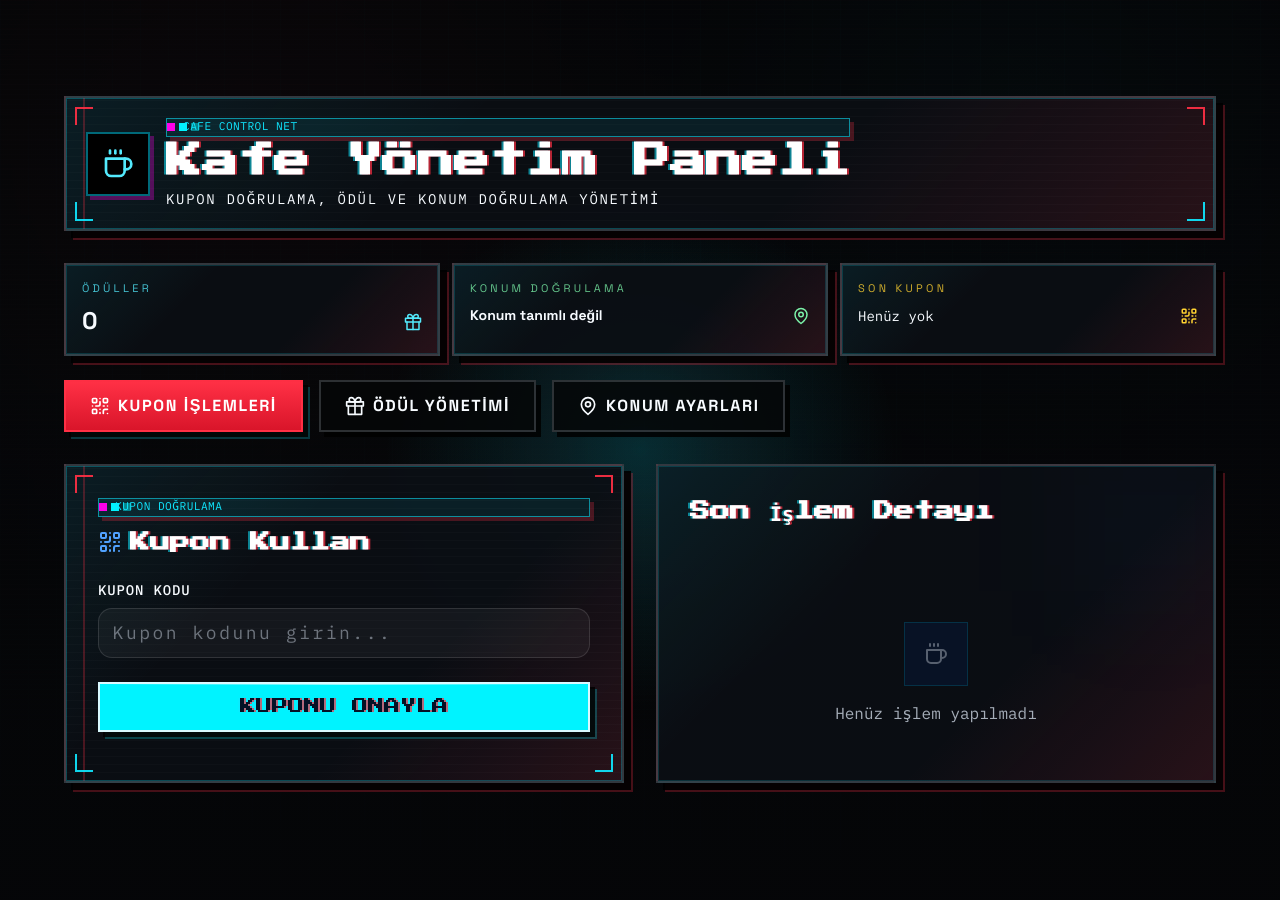
Scenario: CafeDashboard › verifies coupon successfully
Type "abc123" into the field with placeholder "Kupon kodunu girin...".
click(344, 633); type("abc123")  # box left=98, top=608, right=590, bottom=658
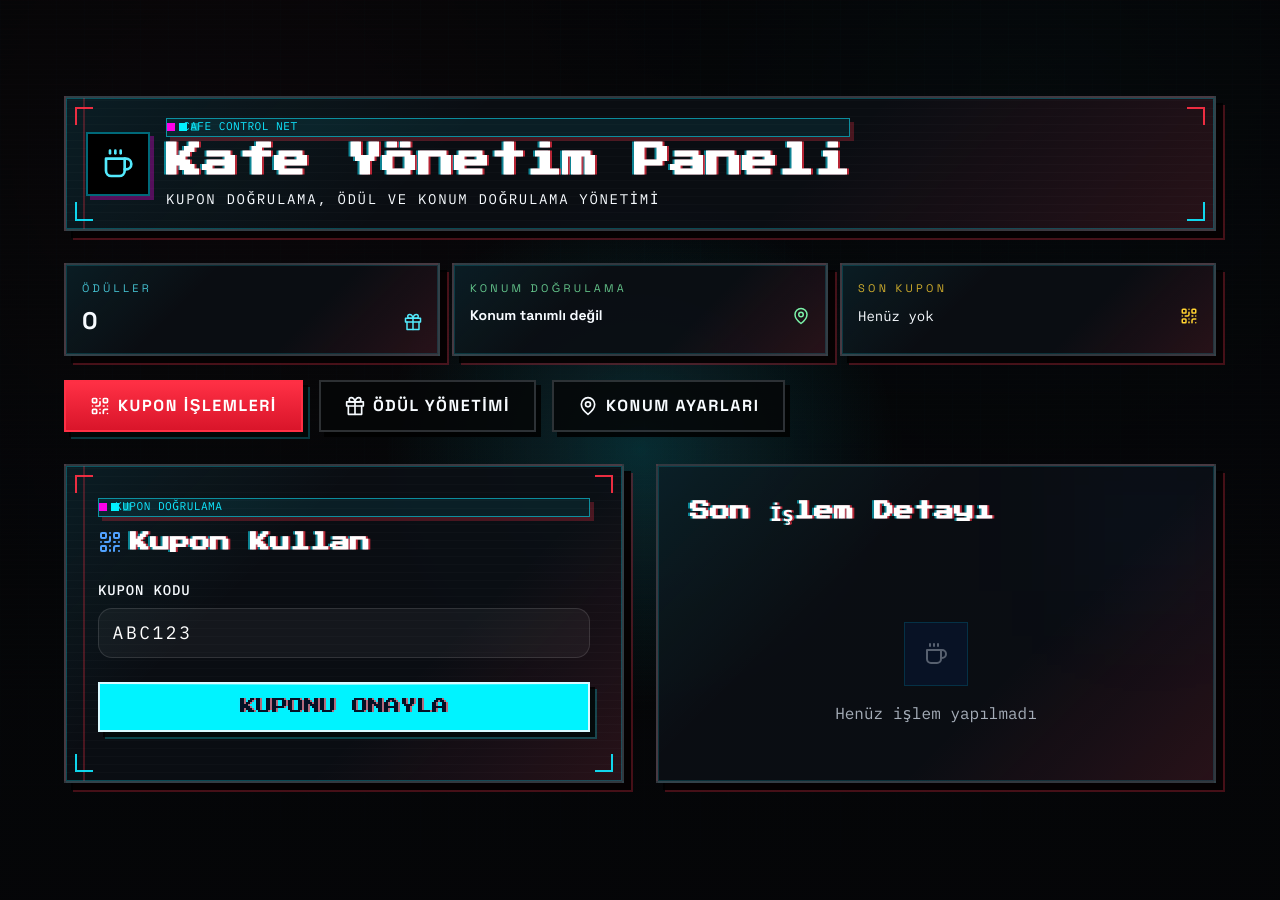
Click the button "KUPONU ONAYLA".
click(344, 707)  # box left=98, top=682, right=590, bottom=732
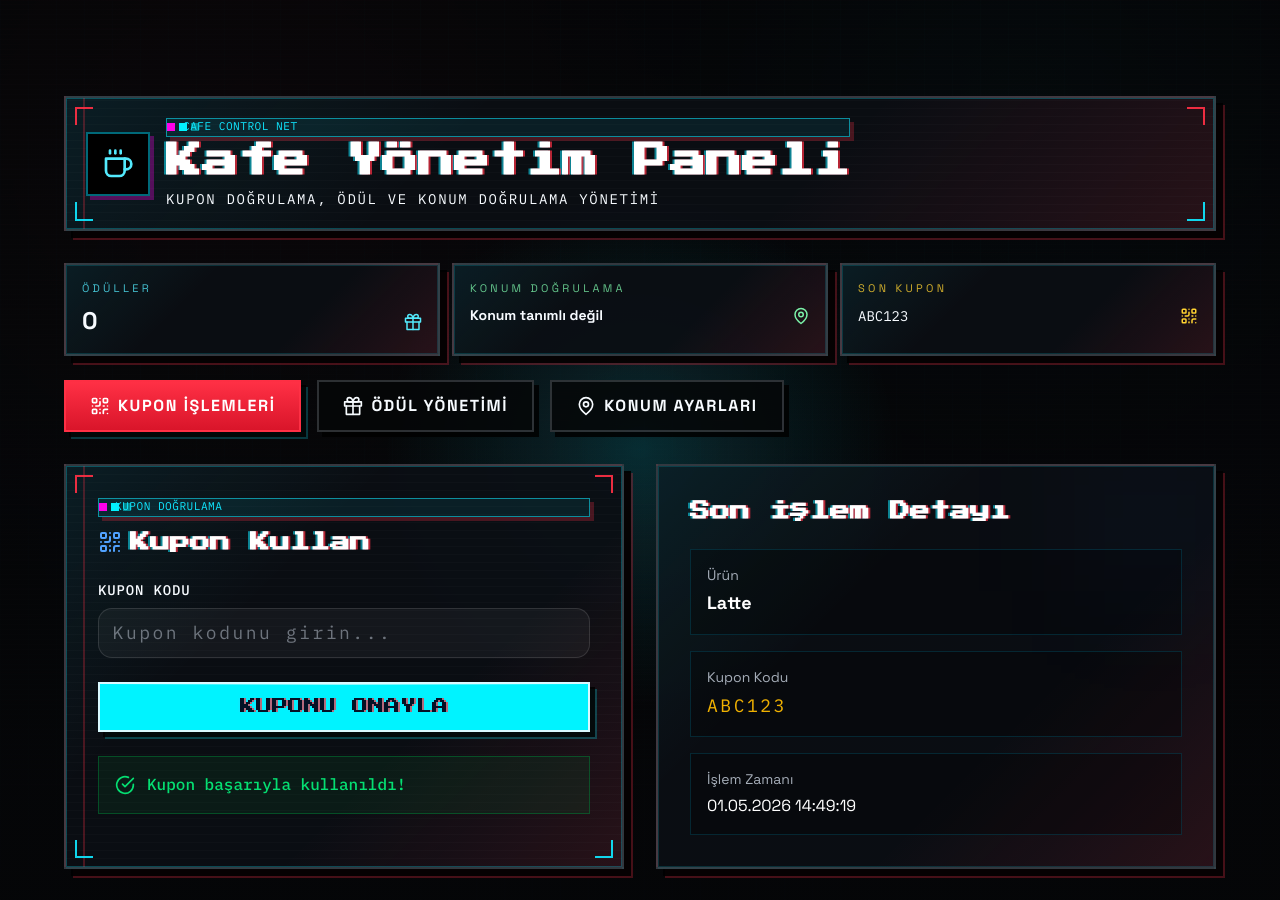
expect the text "Kupon başarıyla kullanıldı!" is shown: met, box left=147, top=773, right=406, bottom=797
expect the text "Latte" is shown: met, box left=707, top=592, right=752, bottom=615
